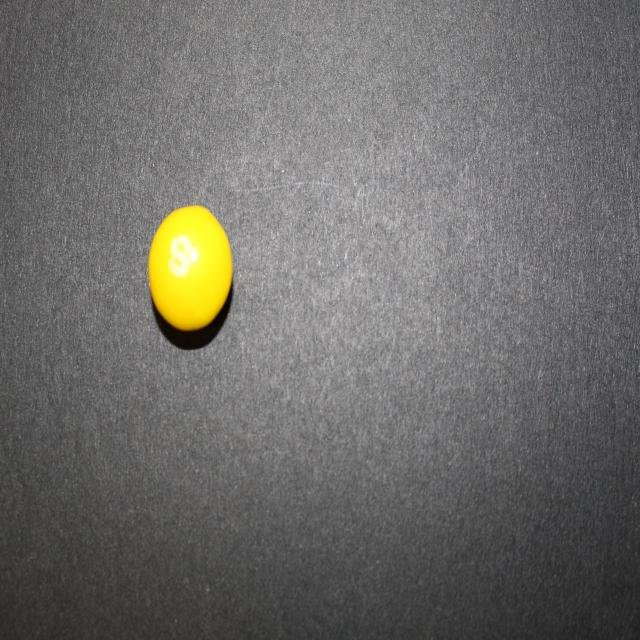smartie: (148, 205, 232, 330)
